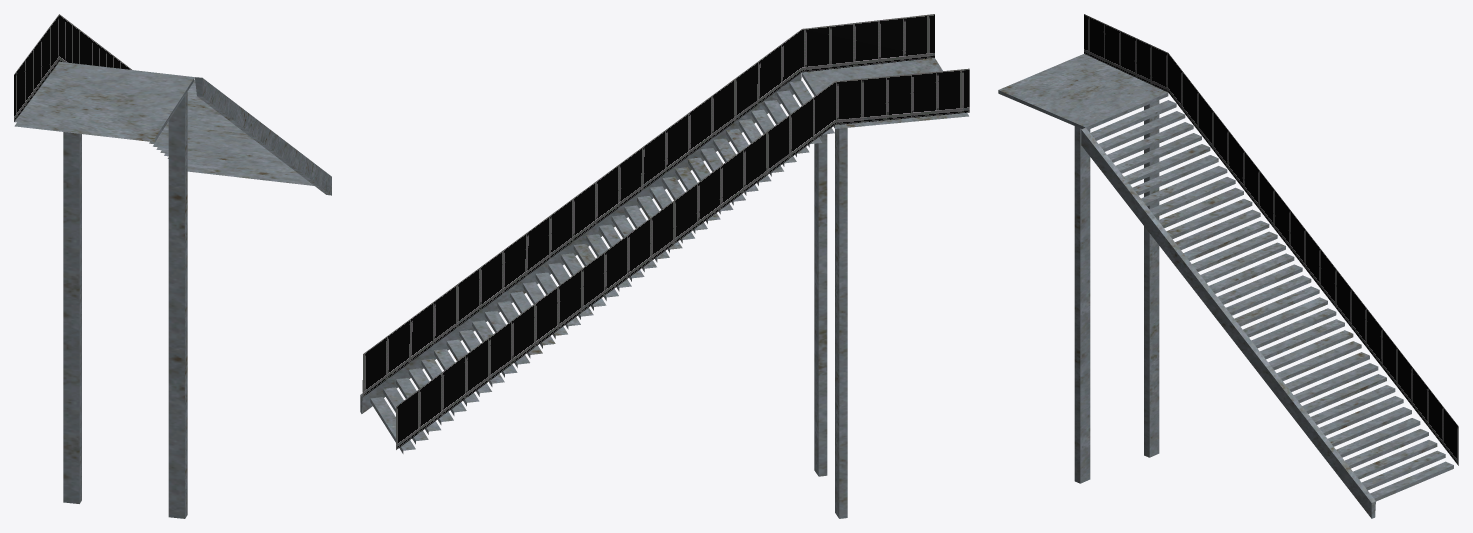
File: ottos_ramp.obj
The picture shows the model from 3 angles, left to right: view 1: azimuth 30°, elevation 25°; view 2: azimuth 150°, elevation 25°; view 3: azimuth 270°, elevation 25°; orthographic projection. The views are drawn at different scales.
Parts seen in each view (by area): view 1: ottos_ramp; view 2: ottos_ramp; view 3: ottos_ramp.
Boxes of the visible parts, x1,y1,x2,y2 form: ottos_ramp: [14, 14, 331, 518]; ottos_ramp: [360, 14, 969, 518]; ottos_ramp: [998, 14, 1458, 518].
Bounding box in the file's own units: 13.31 × 12.47 × 13.
2 materials, 2 textured.
